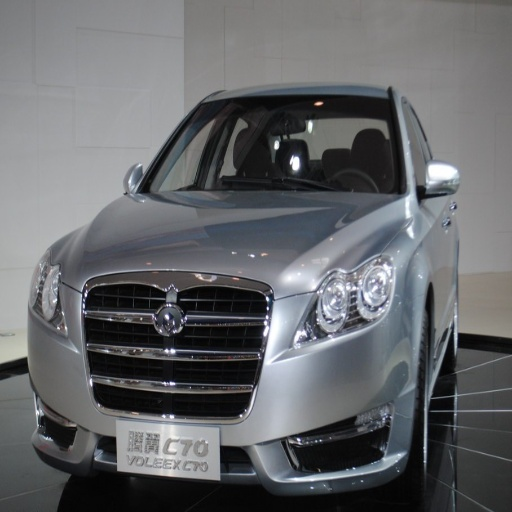front_bumper: (29, 272, 416, 496)
front_right_light: (30, 253, 68, 337)
hood: (56, 194, 415, 297)
left_mirror: (417, 161, 461, 199)
